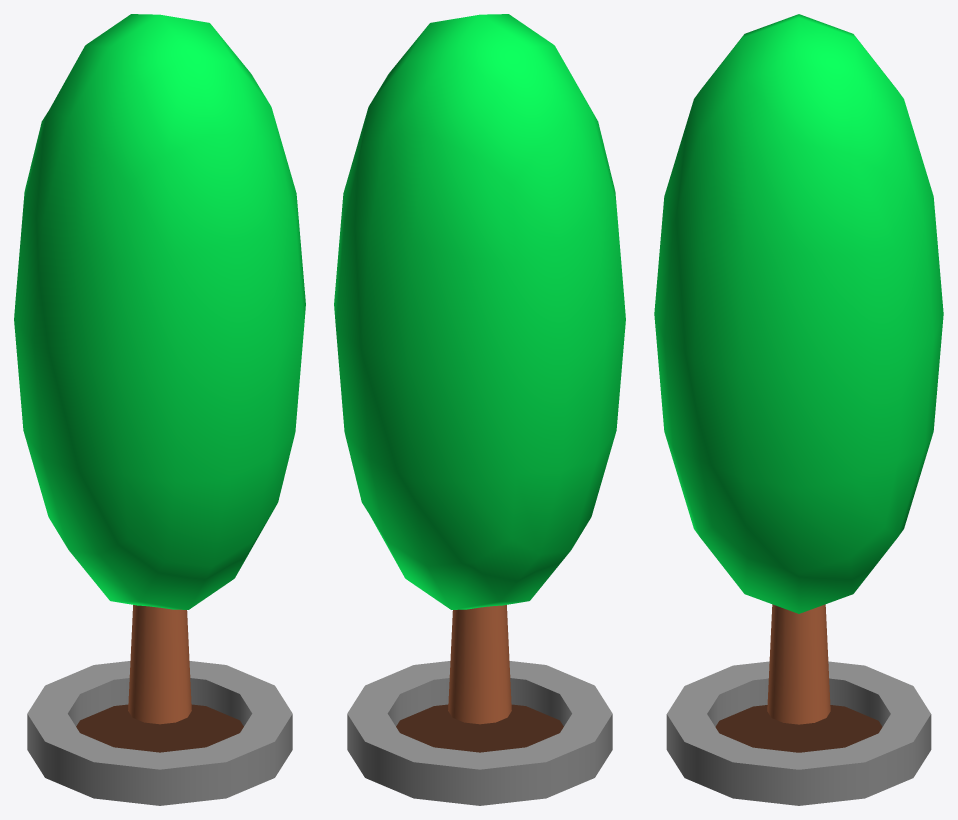
Rendered from Tree_2.fbx.
3 views of the same model, side by side, from view 1: azimuth 30°, elevation 25°; view 2: azimuth 150°, elevation 25°; view 3: azimuth 270°, elevation 25° (orthographic).
Parts seen in each view (by area): view 1: Cylinder.002; view 2: Cylinder.002; view 3: Cylinder.002.
Part boxes in pixels (x1=…): Cylinder.002: x1=14, y1=14, x2=305, y2=805; Cylinder.002: x1=334, y1=14, x2=625, y2=805; Cylinder.002: x1=654, y1=14, x2=943, y2=805.
Bounding box in the file's own units: 411 × 1148 × 411.
